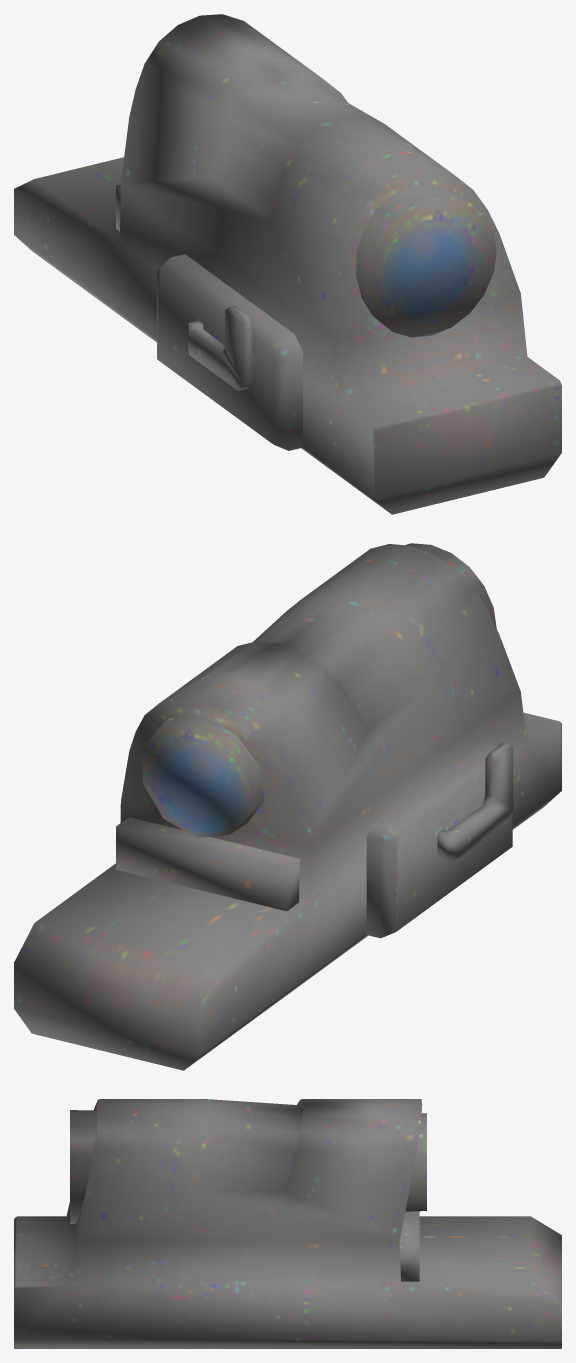
The model's file is sight4.obj.
3 views of the same model, one above another, from view 1: azimuth 30°, elevation 25°; view 2: azimuth 150°, elevation 25°; view 3: azimuth 270°, elevation 25° (orthographic). The views are drawn at different scales.
Visible parts, largest first — view 1: sight4; view 2: sight4; view 3: sight4.
Boxes of the visible parts, <box> form: sight4: <box>14,14,561,514</box>; sight4: <box>14,543,561,1070</box>; sight4: <box>14,1099,561,1348</box>.
Size of the model in its own units: 5.63 by 6.68 by 15.35.
